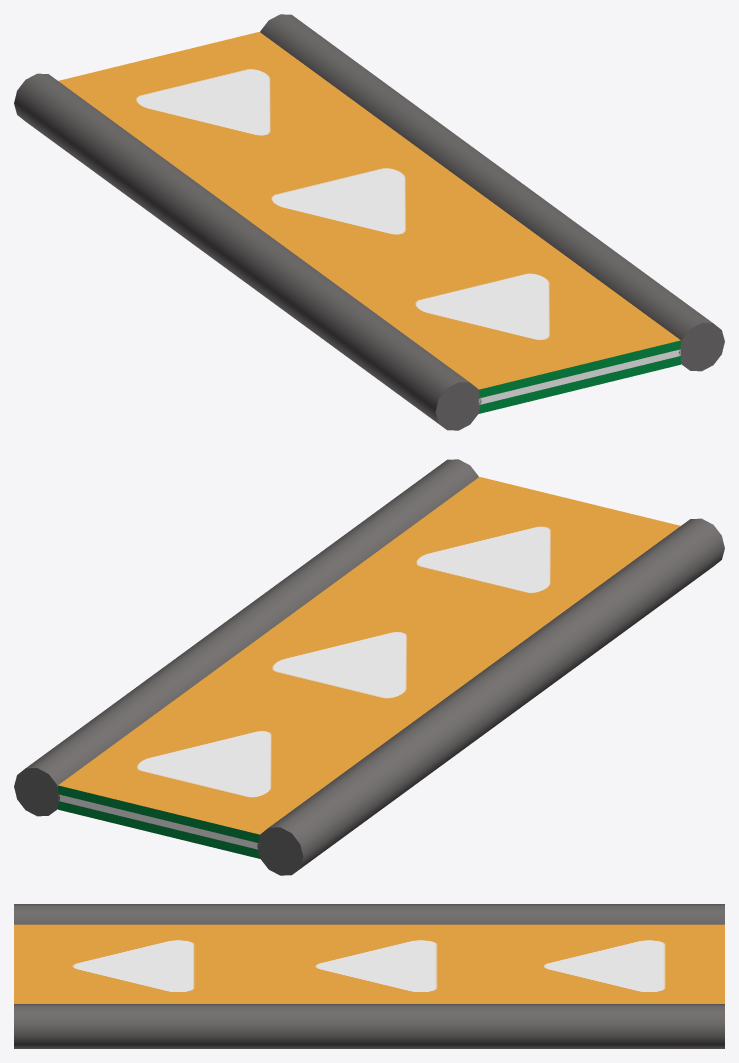
Rendered from PLF0110185.fbx.
The picture shows the model from 3 angles, top to bottom: view 1: azimuth 30°, elevation 25°; view 2: azimuth 150°, elevation 25°; view 3: azimuth 270°, elevation 25°; orthographic projection. The views are drawn at different scales.
Visible parts, largest first — view 1: smPLF0110185; view 2: smPLF0110185; view 3: smPLF0110185.
Part boxes in pixels (x1,y1,x2,y2): smPLF0110185: [14, 14, 724, 430]; smPLF0110185: [14, 459, 724, 875]; smPLF0110185: [14, 904, 724, 1048].
Bounding box in the file's own units: 183 × 29.18 × 461.
